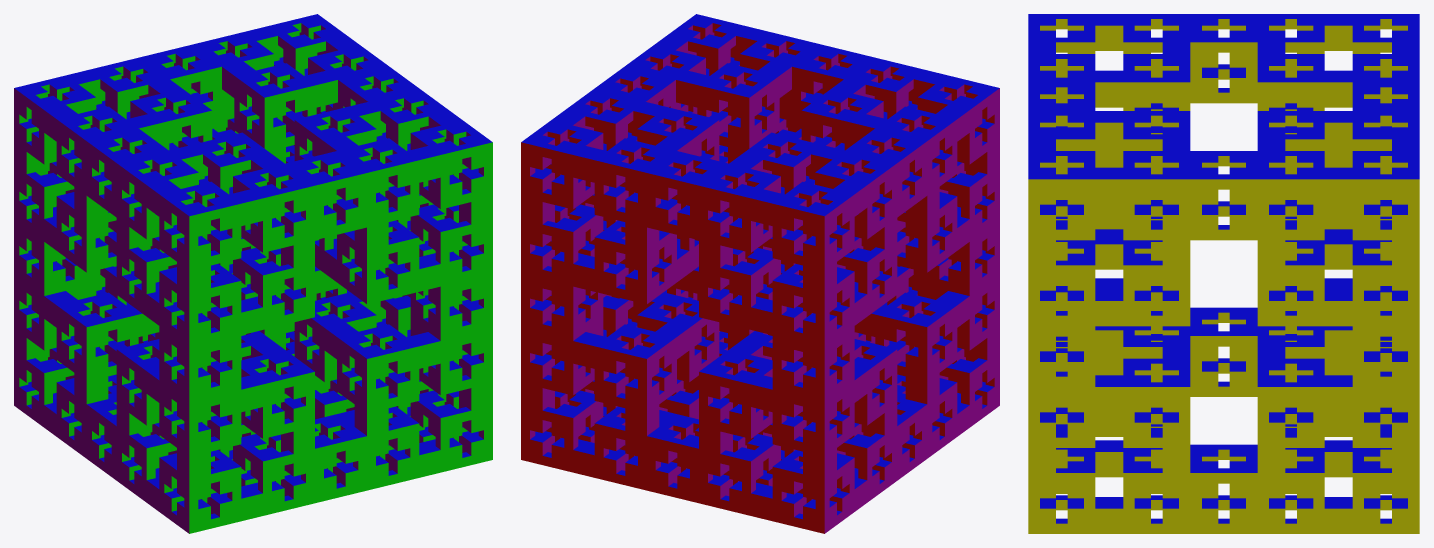
3 views of the same model, side by side, from view 1: azimuth 30°, elevation 25°; view 2: azimuth 150°, elevation 25°; view 3: azimuth 270°, elevation 25° (orthographic). The views are drawn at different scales.
Parts seen in each view (by area): view 1: empty_3; view 2: empty_3; view 3: empty_3.
Boxes of the visible parts, x1,y1,x2,y2 form: empty_3: (14, 14, 492, 533); empty_3: (521, 14, 999, 533); empty_3: (1028, 14, 1419, 533).
Bounding box in the file's own units: 1 × 1 × 1.
